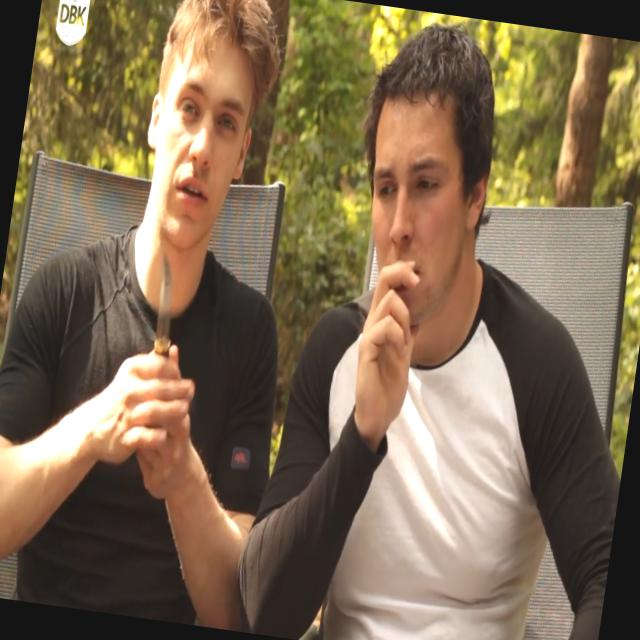knife: (126, 238, 208, 426)
